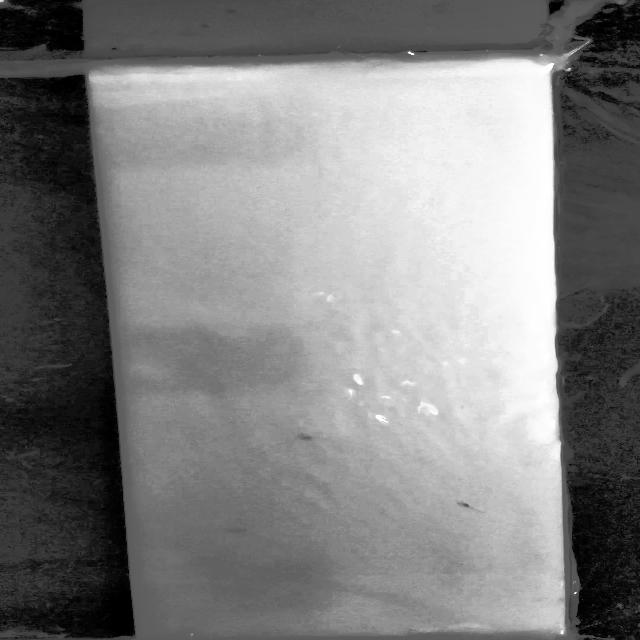shrimp: (282, 426, 330, 446), (446, 496, 483, 518)
